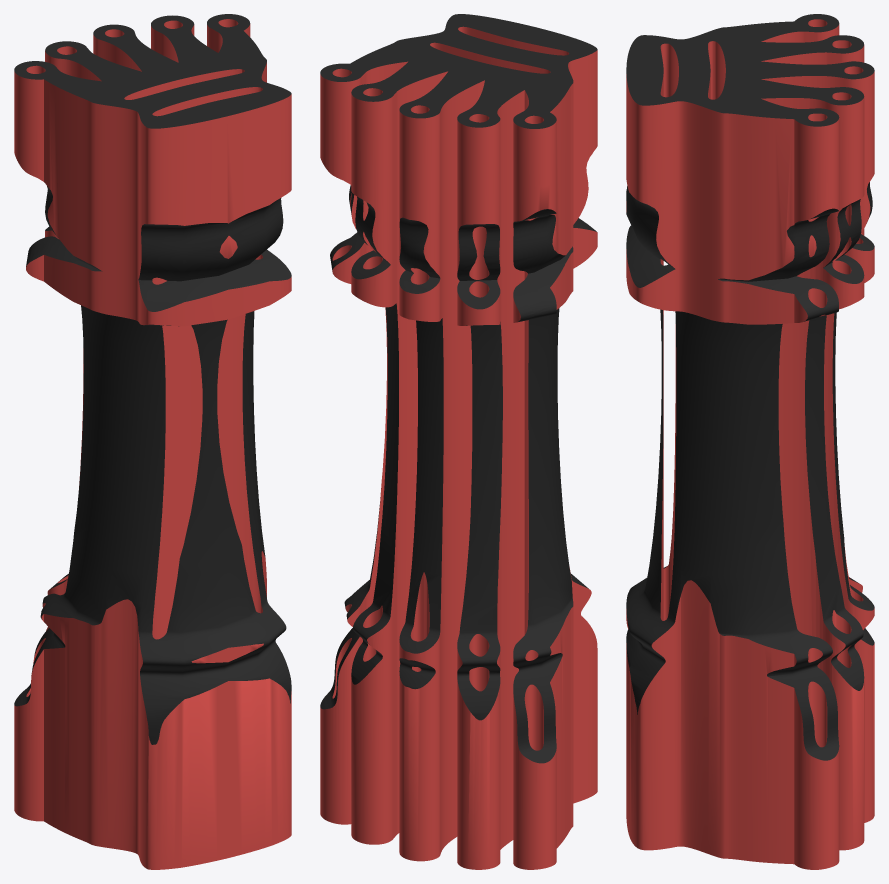
The model's file is Black_Queen.fbx.
3 views of the same model, side by side, from view 1: azimuth 30°, elevation 25°; view 2: azimuth 150°, elevation 25°; view 3: azimuth 270°, elevation 25° (orthographic).
Visible parts, largest first — view 1: Black_Queen; view 2: Black_Queen; view 3: Black_Queen.
Part boxes in pixels (x1,y1,x2,y2): Black_Queen: (14, 14, 291, 869); Black_Queen: (320, 14, 597, 869); Black_Queen: (626, 14, 874, 869).
Size of the model in its own units: 47.08 by 43.82 by 145.
